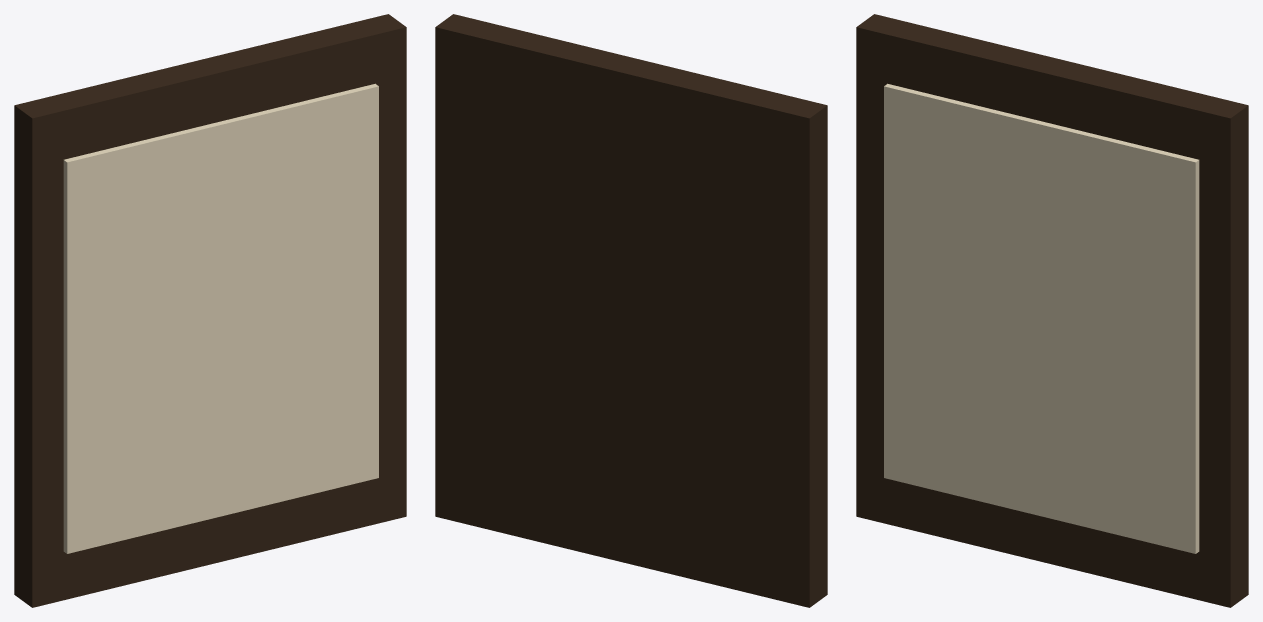
File: PRP_Photo_A.glb
The picture shows the model from 3 angles, left to right: view 1: azimuth 30°, elevation 25°; view 2: azimuth 150°, elevation 25°; view 3: azimuth 330°, elevation 25°; orthographic projection.
Parts seen in each view (by area): view 1: PRP_Photo_A_Print, PRP_Photo_A_Frame; view 2: PRP_Photo_A_Frame; view 3: PRP_Photo_A_Print, PRP_Photo_A_Frame.
Part boxes in pixels (bbox=[...]): PRP_Photo_A_Print: bbox=[63, 83, 378, 553]; PRP_Photo_A_Frame: bbox=[14, 14, 406, 607]; PRP_Photo_A_Frame: bbox=[435, 14, 827, 607]; PRP_Photo_A_Print: bbox=[884, 83, 1199, 553]; PRP_Photo_A_Frame: bbox=[856, 14, 1248, 607].
Bounding box in the file's own units: 0.12 × 0.15 × 0.012.
